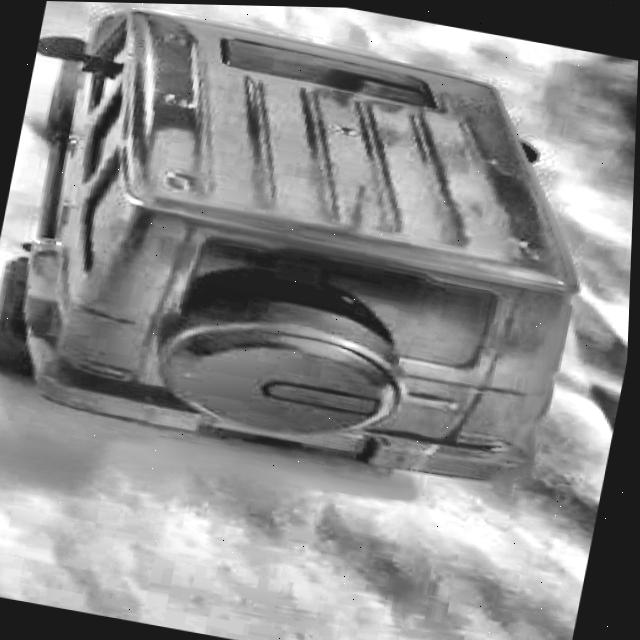light_vehicle: (0, 0, 628, 504)
